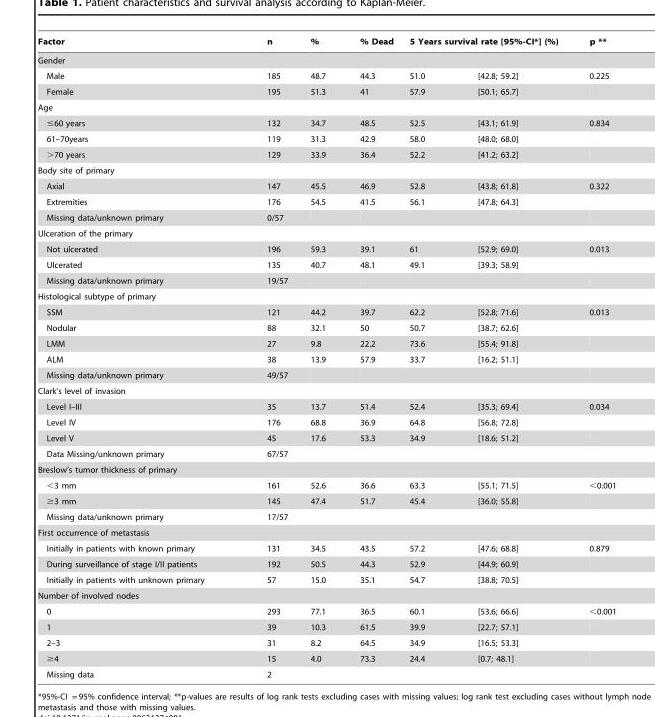table: (37, 36, 615, 678)
table column: (37, 36, 235, 678), (450, 36, 573, 678), (235, 36, 298, 678), (342, 36, 400, 678), (400, 36, 450, 678), (298, 36, 342, 678), (573, 36, 615, 678)
table column header: (37, 36, 615, 83)
table projected row header: (37, 99, 615, 115), (37, 162, 615, 178), (37, 225, 615, 241), (37, 288, 615, 304), (37, 382, 615, 398), (37, 461, 615, 477), (37, 524, 615, 540), (37, 587, 615, 603)
table row: (37, 50, 615, 67), (37, 67, 615, 83), (37, 83, 615, 99), (37, 99, 615, 115), (37, 130, 615, 146), (37, 146, 615, 162), (37, 162, 615, 178), (37, 193, 615, 209), (37, 209, 615, 225), (37, 225, 615, 241), (37, 256, 615, 272), (37, 272, 615, 288), (37, 288, 615, 304), (37, 319, 615, 335), (37, 335, 615, 351), (37, 351, 615, 367), (37, 382, 615, 398), (37, 398, 615, 414), (37, 414, 615, 430), (37, 445, 615, 461), (37, 461, 615, 477), (37, 477, 615, 493), (37, 508, 615, 524), (37, 524, 615, 540), (37, 540, 615, 556), (37, 571, 615, 587), (37, 587, 615, 603), (37, 603, 615, 619), (37, 634, 615, 650), (37, 650, 615, 666), (37, 115, 615, 130), (37, 178, 615, 193), (37, 241, 615, 256), (37, 304, 615, 319), (37, 367, 615, 382), (37, 430, 615, 445), (37, 493, 615, 508), (37, 556, 615, 571), (37, 619, 615, 634), (37, 36, 615, 50), (37, 666, 615, 678)
table spanning cell: (37, 50, 615, 67), (400, 36, 573, 50)
